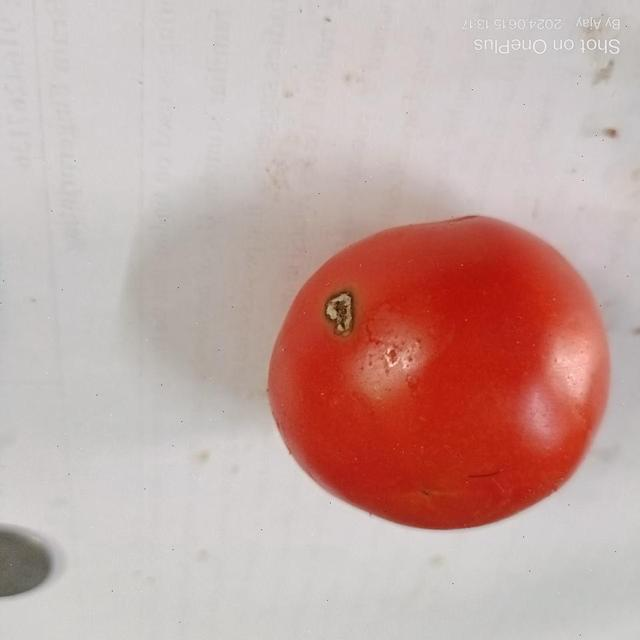Bacterial Spot Fruit: (216, 192, 238, 225)
